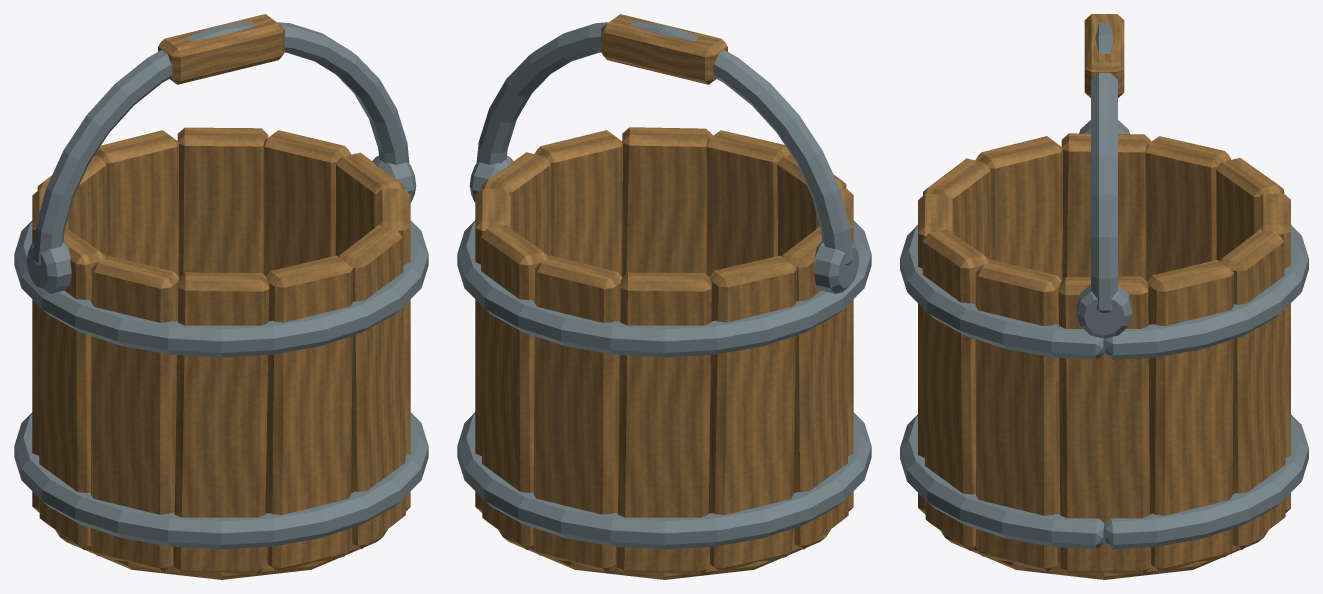
The model's file is BrigadeBucket.glb.
3 views of the same model, side by side, from view 1: azimuth 30°, elevation 25°; view 2: azimuth 150°, elevation 25°; view 3: azimuth 270°, elevation 25° (orthographic).
Parts seen in each view (by area): view 1: Bucket stave.008, Bucket stave.007, Bucket stave.009, Bucket hoop, Bucket hoop.001, Carry bail, Bucket stave.010, Bucket stave.002, Bucket stave.006, Bucket stave.001, Bucket stave.003, Wood carry grip (+7 smaller); view 2: Bucket stave.004, Bucket stave.005, Bucket stave.003, Bucket hoop, Bucket hoop.001, Carry bail, Bucket stave.002, Bucket stave.010, Bucket stave.006, Bucket stave.011, Bucket stave.009, Wood carry grip (+7 smaller); view 3: Bucket stave.001, Bucket stave.011, Bucket stave, Bucket hoop, Bucket hoop.001, Bucket stave.010, Bucket stave.002, Bucket stave.007, Bucket stave.005, Bucket stave.006, Carry bail, Bucket stave.004 (+6 smaller).
Boxes of the visible parts, <box> form: Bucket stave.008: <box>173,272,269,574</box>; Bucket stave.007: <box>90,255,179,571</box>; Bucket stave.009: <box>265,255,353,571</box>; Bucket hoop: <box>14,412,428,549</box>; Bucket hoop.001: <box>14,220,428,357</box>; Carry bail: <box>32,21,409,265</box>; Bucket stave.010: <box>338,225,405,549</box>; Bucket stave.002: <box>177,127,268,277</box>; Bucket stave.006: <box>38,227,106,549</box>; Bucket stave.001: <box>263,130,350,276</box>; Bucket stave.003: <box>94,130,179,276</box>; Wood carry grip: <box>158,14,284,84</box>; Bucket stave.004: <box>617,272,711,574</box>; Bucket stave.005: <box>708,255,796,571</box>; Bucket stave.003: <box>533,255,622,571</box>; Bucket hoop: <box>457,412,871,549</box>; Bucket hoop.001: <box>457,220,871,357</box>; Carry bail: <box>476,21,853,265</box>; Bucket stave.002: <box>480,224,549,549</box>; Bucket stave.010: <box>622,127,712,276</box>; Bucket stave.006: <box>781,227,848,549</box>; Bucket stave.011: <box>534,130,622,276</box>; Bucket stave.009: <box>706,130,790,276</box>; Wood carry grip: <box>601,14,727,84</box>; Bucket stave.001: <box>1147,260,1233,571</box>; Bucket stave.011: <box>975,260,1061,571</box>; Bucket stave: <box>1058,276,1150,574</box>; Bucket hoop: <box>900,414,1308,549</box>; Bucket hoop.001: <box>900,225,1308,359</box>; Bucket stave.010: <box>922,229,990,550</box>; Bucket stave.002: <box>1219,229,1285,549</box>; Bucket stave.007: <box>975,136,1062,280</box>; Bucket stave.005: <box>1145,136,1230,281</box>; Bucket stave.006: <box>1061,133,1151,280</box>; Carry bail: <box>1091,22,1117,312</box>; Bucket stave.004: <box>1216,158,1284,260</box>.
Bounding box in the file's own units: 0.426 × 0.5212 × 0.4108.
Materials: 2 (1 with a texture image).
